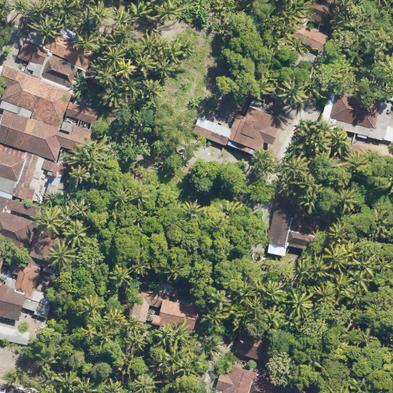building: (0, 110, 92, 173), (0, 65, 71, 127), (131, 288, 198, 333), (229, 107, 278, 152), (330, 94, 381, 129), (45, 34, 94, 70), (29, 223, 66, 264), (0, 213, 35, 254), (267, 198, 294, 245), (13, 153, 39, 200), (215, 365, 257, 393), (236, 329, 271, 362), (42, 55, 78, 87), (193, 117, 231, 146), (0, 151, 25, 194), (301, 1, 337, 28), (292, 26, 328, 51), (16, 263, 40, 299), (0, 288, 26, 321), (17, 41, 48, 65), (66, 102, 99, 124), (249, 375, 285, 393), (290, 215, 320, 236), (287, 232, 313, 251), (0, 284, 8, 317), (5, 388, 28, 393), (0, 196, 7, 212), (0, 260, 3, 270), (0, 390, 5, 393), (0, 386, 1, 389)
